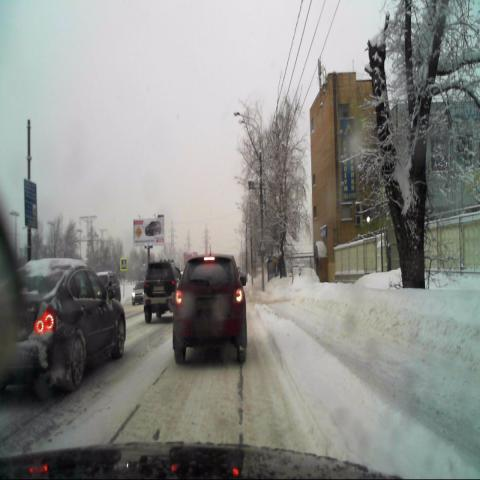5_19_1: (119, 257, 128, 272), (258, 239, 266, 249)
